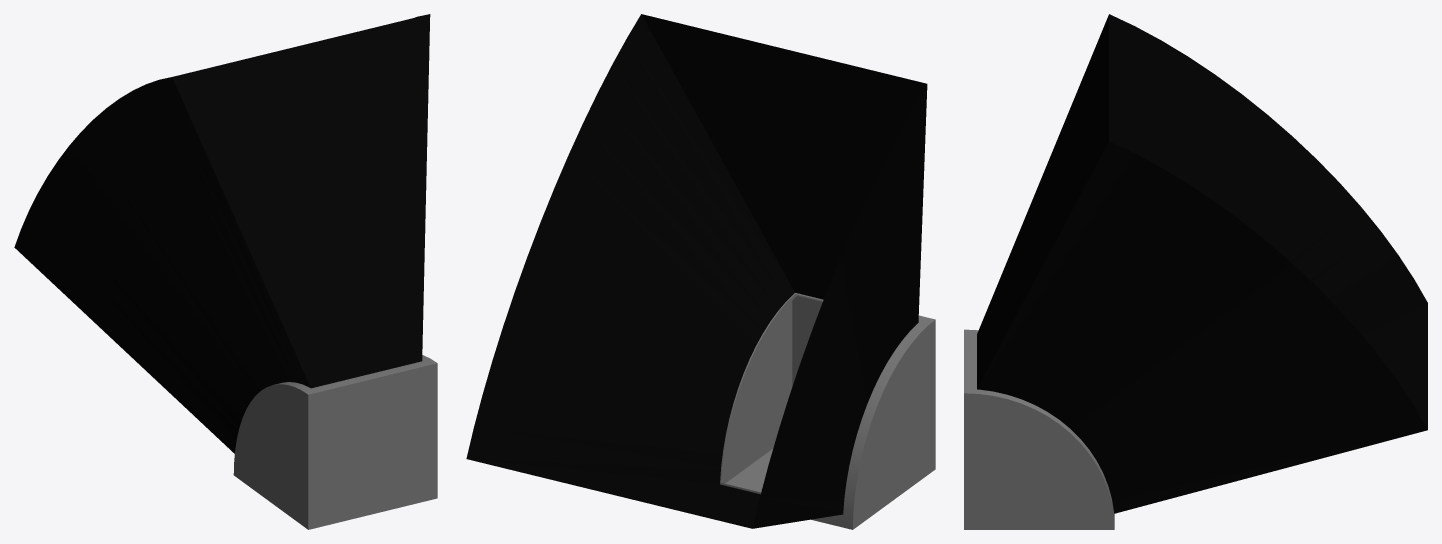
File: Light_Deng4_1X1_on.FBX
The picture shows the model from 3 angles, left to right: view 1: azimuth 30°, elevation 25°; view 2: azimuth 150°, elevation 25°; view 3: azimuth 270°, elevation 25°; orthographic projection. The views are drawn at different scales.
Visible parts, largest first — view 1: Box002; view 2: Box002; view 3: Box002.
Part boxes in pixels (bbox=[...]): Box002: bbox=[14, 14, 437, 529]; Box002: bbox=[466, 14, 935, 529]; Box002: bbox=[964, 14, 1427, 529].
Bounding box in the file's own units: 2 × 3.08 × 3.08.
